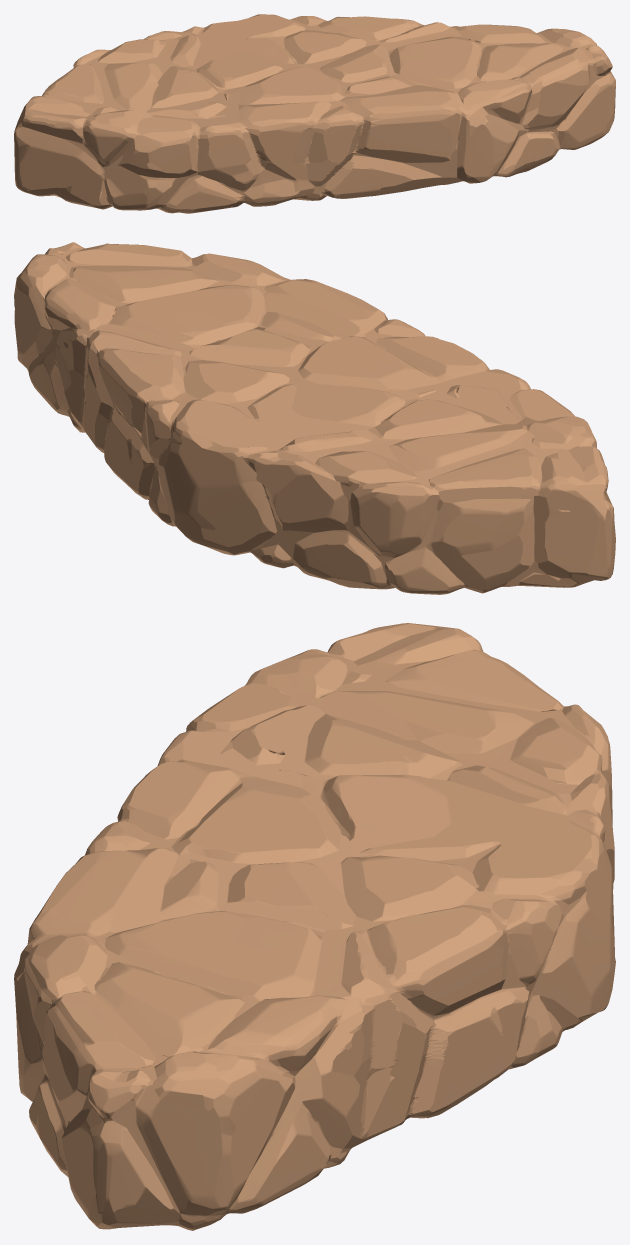
3 views of the same model, one above another, from view 1: azimuth 30°, elevation 25°; view 2: azimuth 150°, elevation 25°; view 3: azimuth 270°, elevation 25° (orthographic). The views are drawn at different scales.
Parts seen in each view (by area): view 1: Mesh_26_LOD0; view 2: Mesh_26_LOD0; view 3: Mesh_26_LOD0.
Part boxes in pixels (left/top/right/bottom): Mesh_26_LOD0: left=14, top=14, right=615, bottom=213; Mesh_26_LOD0: left=14, top=242, right=615, bottom=594; Mesh_26_LOD0: left=14, top=623, right=615, bottom=1230.
Size of what is drawn, in the model's own units: 6882 by 1162 by 3664.
